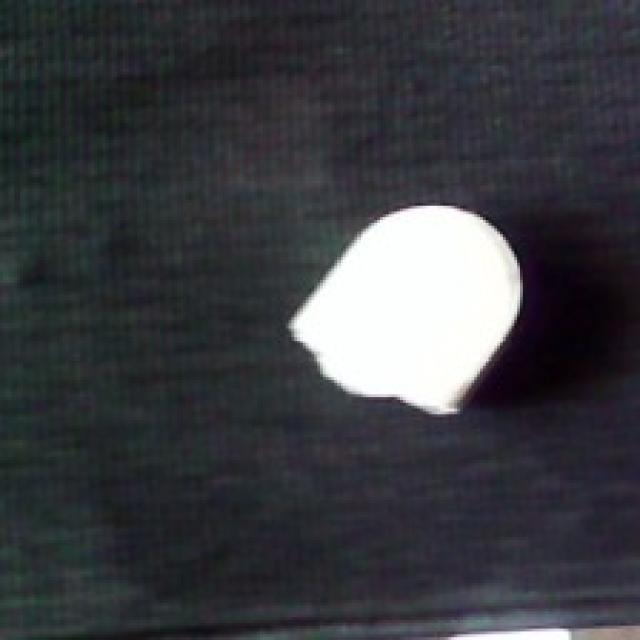defected: (280, 197, 531, 426)
